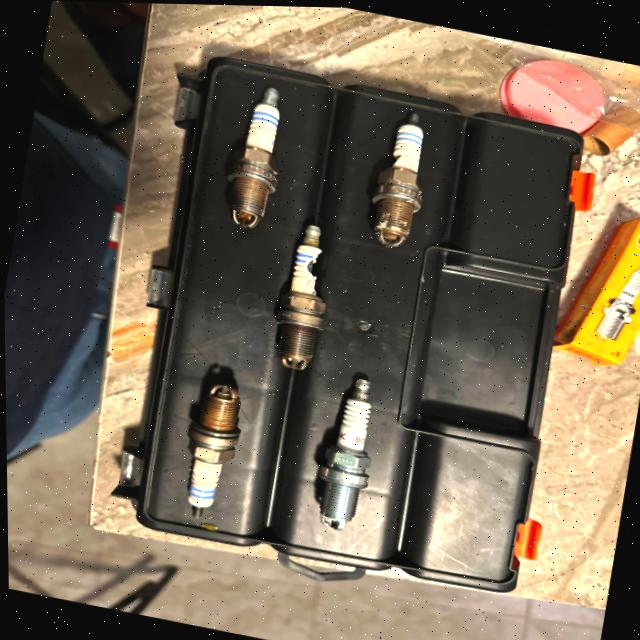damaged_spark-plug: (268, 210, 338, 372), (369, 111, 433, 251)
spark-plug: (305, 368, 384, 533), (214, 77, 293, 232), (172, 373, 244, 522)
